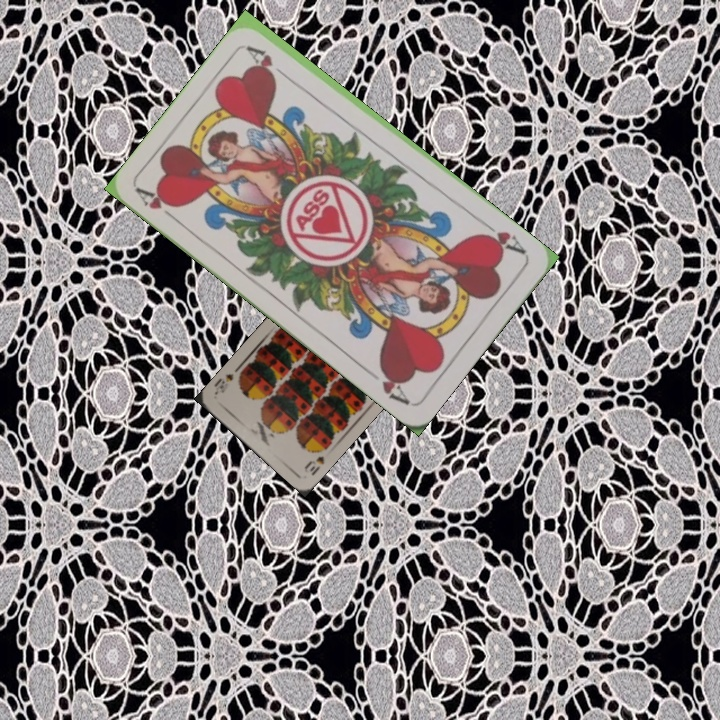HA: (475, 217, 529, 258), (133, 184, 184, 227)
S10: (300, 442, 331, 478)
